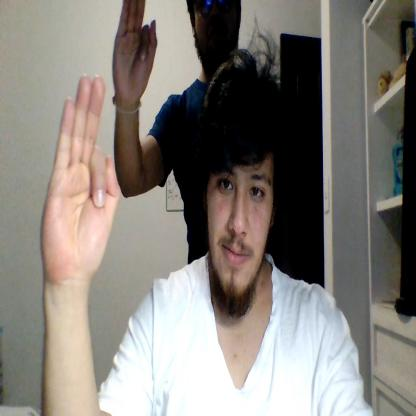F: (40, 76, 119, 283), (112, 0, 157, 98)
